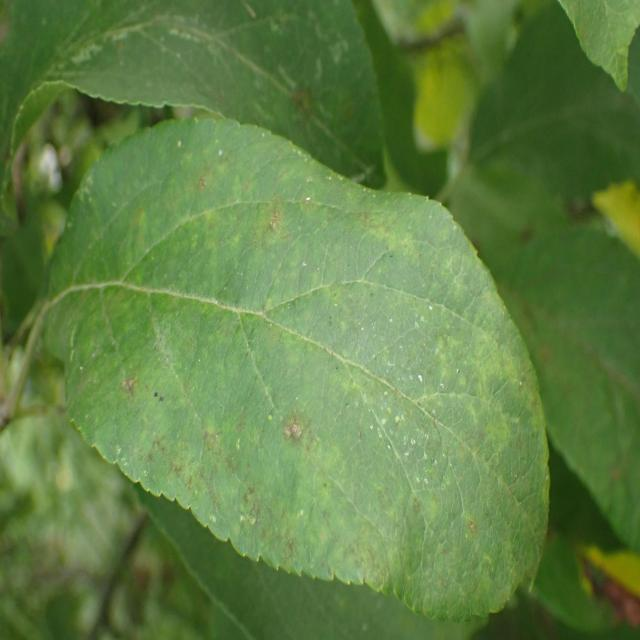scab: (78, 151, 531, 588), (43, 0, 360, 137), (534, 185, 640, 554)
